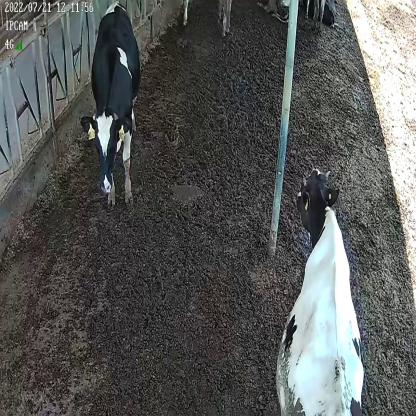cow: (274, 165, 365, 416), (81, 0, 143, 209)
